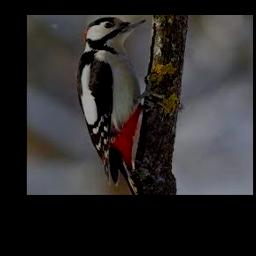Woodpecker: (76, 17, 159, 195)
